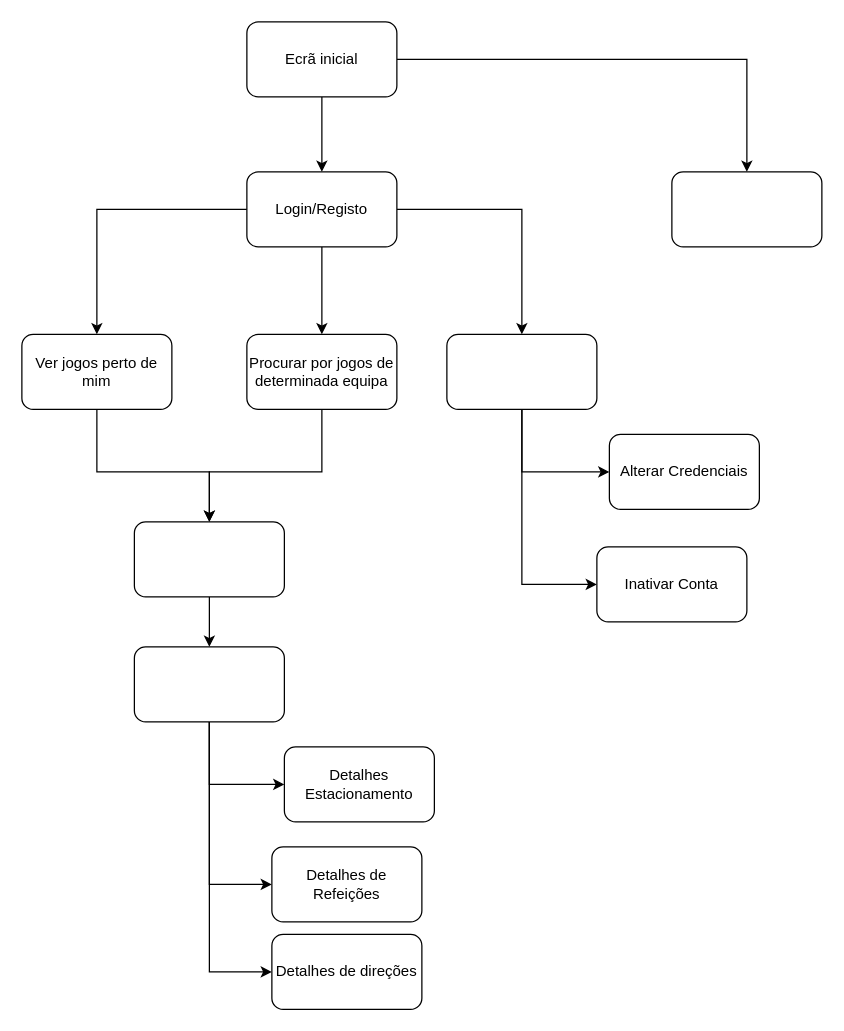
The diagram is 844 pixels wide and 1031 high, and some of its shapes have lost their labels. Each missing label, with the box of its shape:
Detalhes Jogo: (133, 646, 284, 722)
Perfil Utilizador: (446, 333, 597, 409)
Selecionar Jogo: (133, 521, 284, 597)
Sobre nós: (671, 171, 822, 247)
